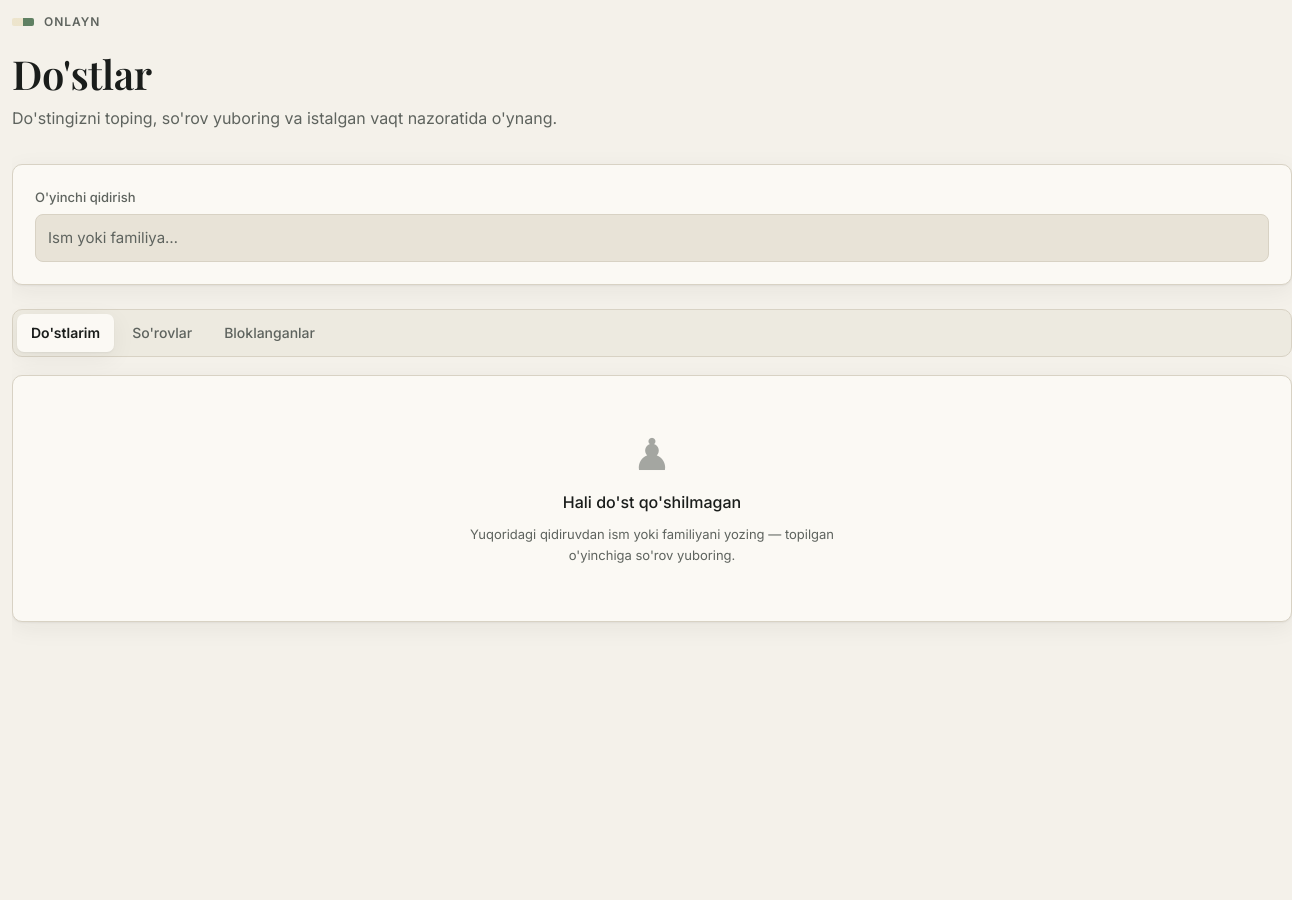
Test case: do`stlar sahifasi › qidiruv › natija topilmasa — sabab tushuntiriladi
The image size is (1292, 900).
Expected: the text "Hali do'st qo'shilmagan" is shown, [563, 492, 741, 512]
Step 1. Type "Zzz" into the search field → (652, 238), box [35, 214, 1269, 262]
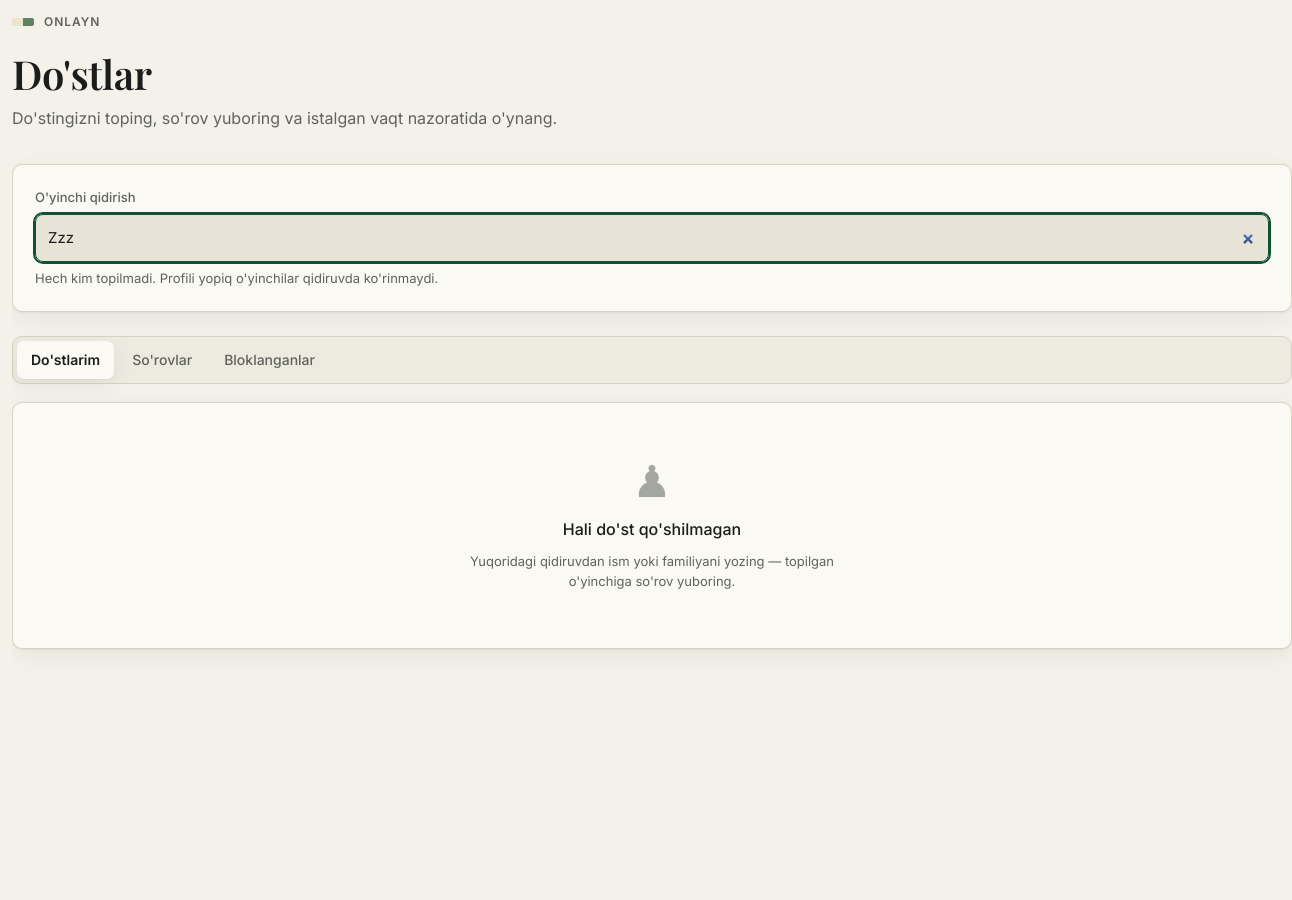
Expected: the text "Hech kim topilmadi" is shown, [35, 270, 438, 286]
